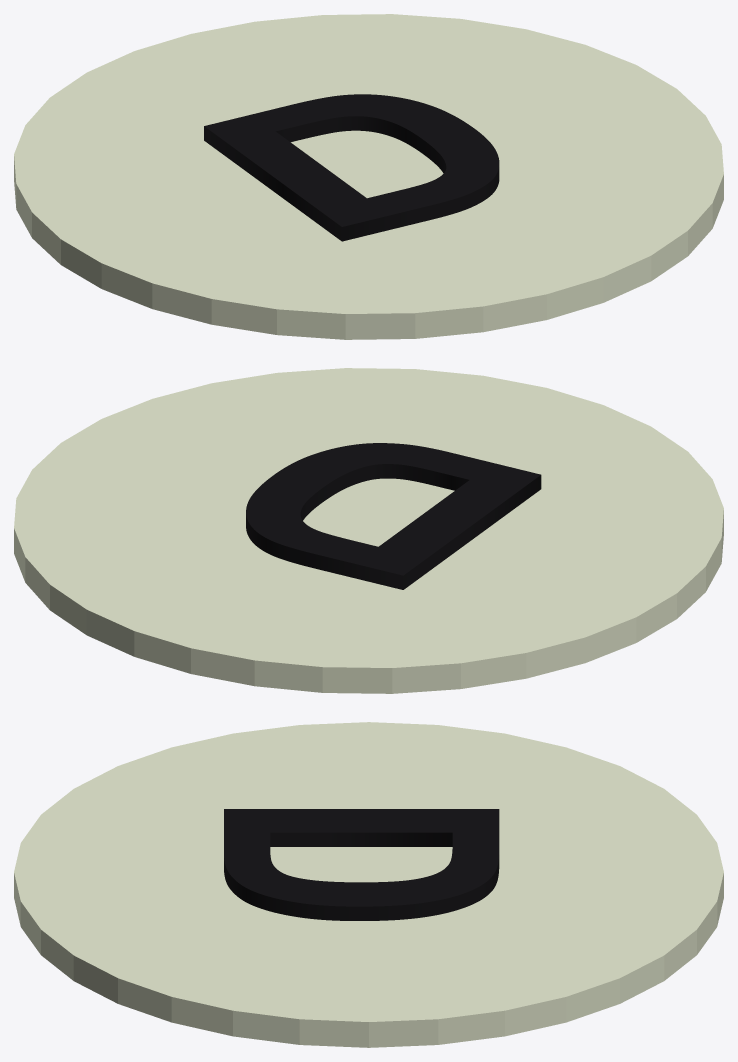
3 views of the same model, one above another, from view 1: azimuth 30°, elevation 25°; view 2: azimuth 150°, elevation 25°; view 3: azimuth 270°, elevation 25° (orthographic).
Visible parts, largest first — view 1: 柱体, 文本; view 2: 柱体, 文本; view 3: 柱体, 文本.
Part boxes in pixels (box(x1,y1,x2,y2)): 柱体: box(14, 14, 723, 339); 文本: box(204, 94, 499, 241); 柱体: box(14, 368, 723, 693); 文本: box(246, 443, 541, 589); 柱体: box(14, 722, 723, 1047); 文本: box(224, 809, 499, 920).
Size of the model in its own units: 200 by 12.5 by 200.
